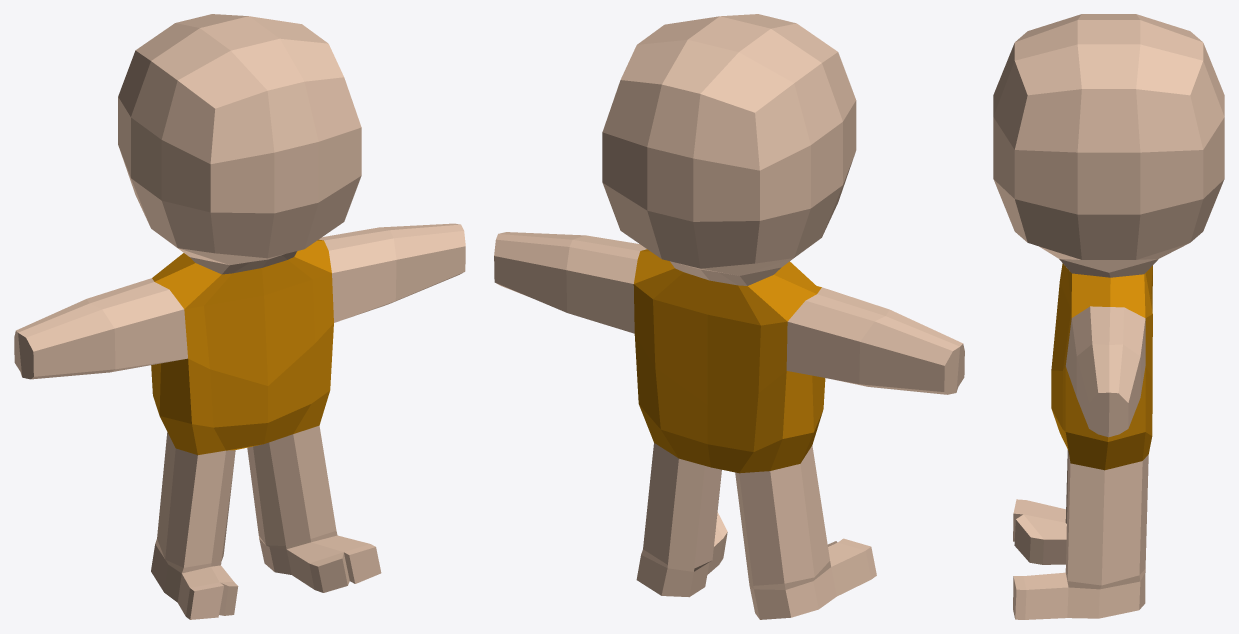
File: monk_better 3.fbx
3 renders of one model, left to right at view 1: azimuth 30°, elevation 25°; view 2: azimuth 150°, elevation 25°; view 3: azimuth 270°, elevation 25°, orthographic. The views are drawn at different scales.
Parts seen in each view (by area): view 1: Cube; view 2: Cube; view 3: Cube.
Part boxes in pixels (x1,y1,x2,y2): Cube: (14,14,465,619); Cube: (494,14,964,619); Cube: (993,14,1224,619).
Size of the model in its own units: 8.7 by 10.19 by 3.85.
